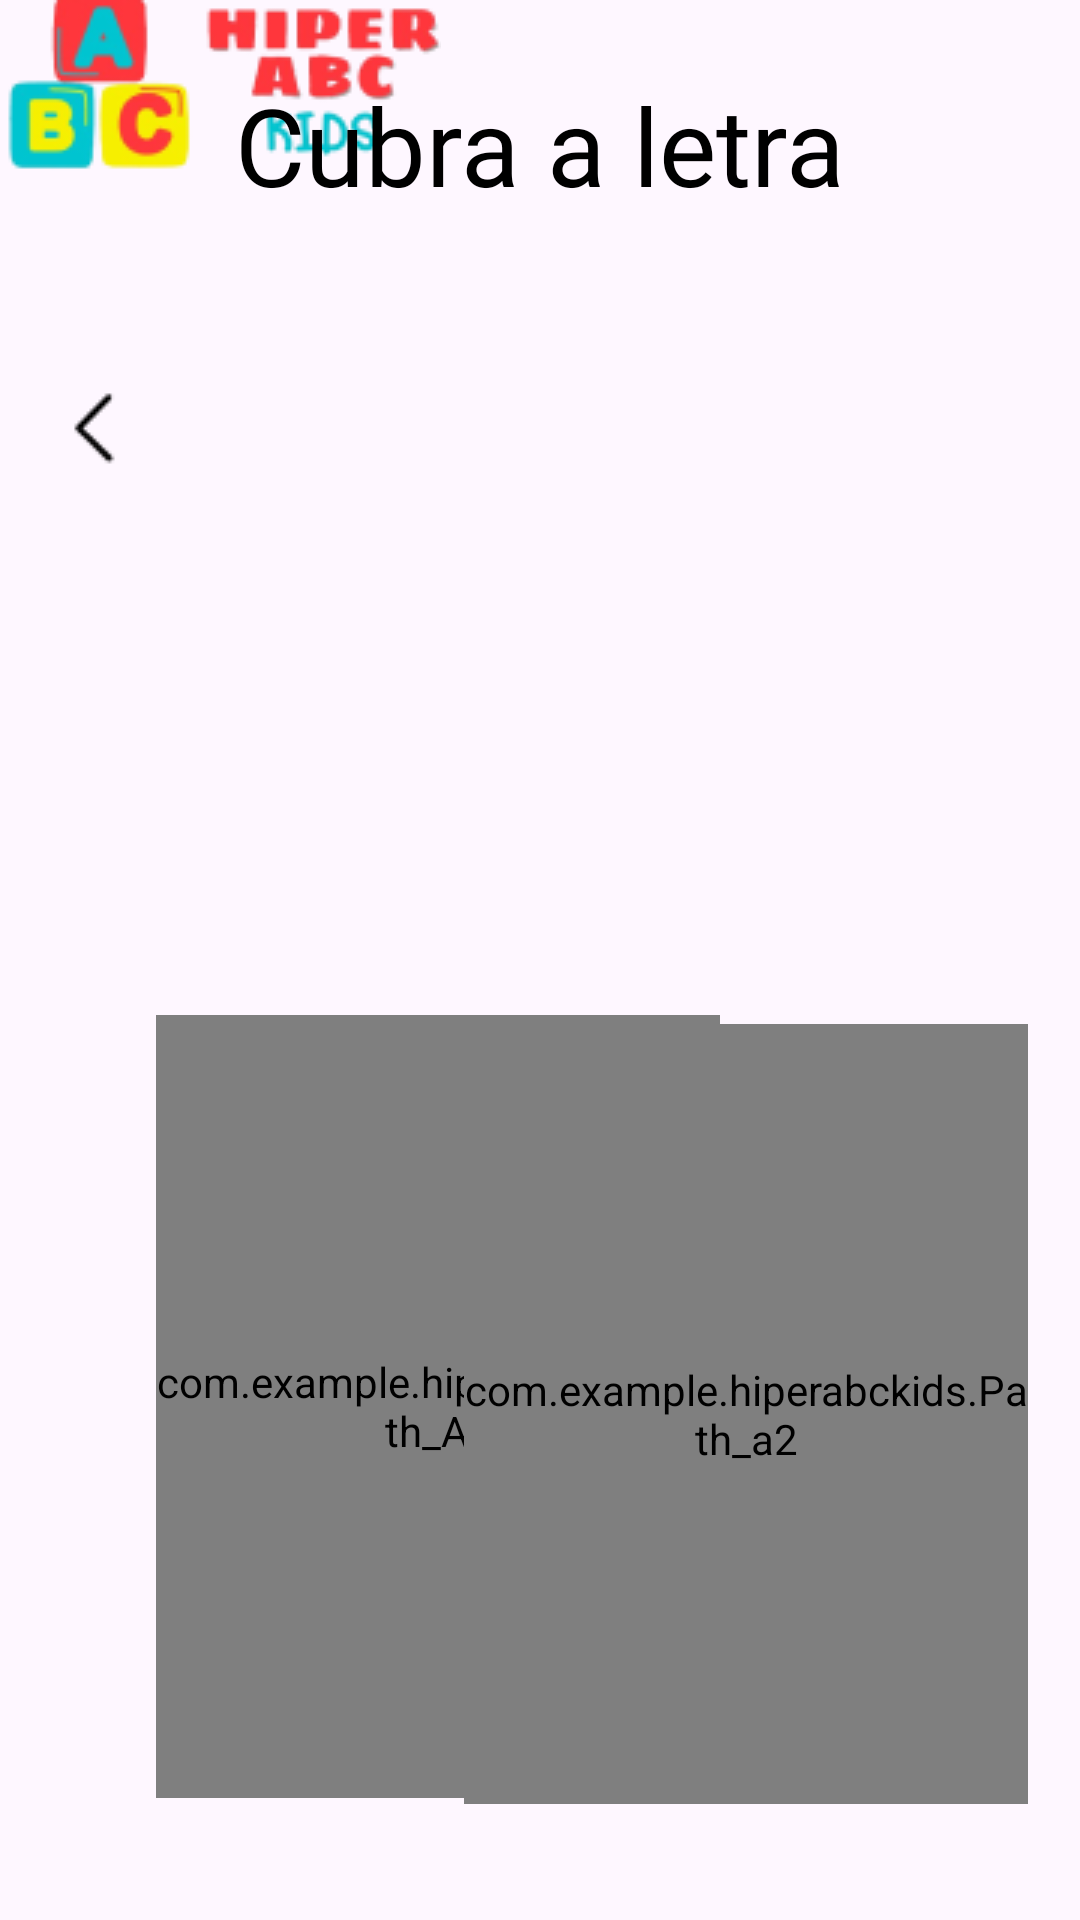

Locate icon controls on the screen. Image size 1080 x 1920, boxes as (x1, y1, x2, y2).
seta voltar: (74, 393, 115, 464)
